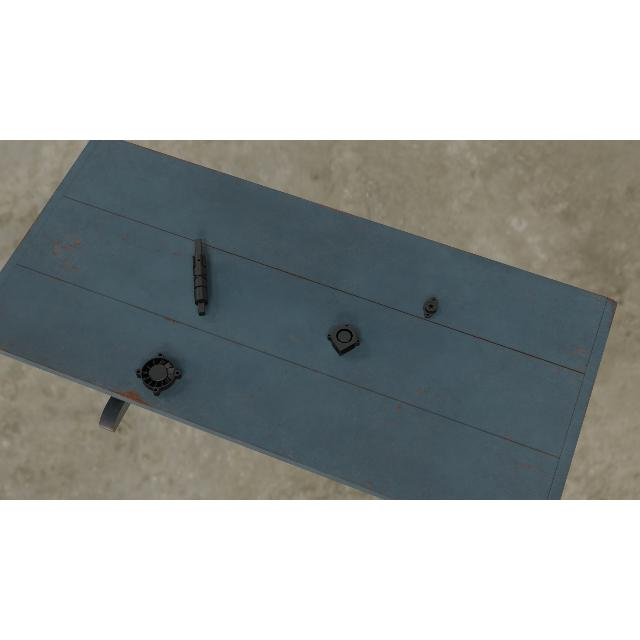Pieza1: (191, 236, 209, 318)
Pieza2: (419, 294, 441, 320)
Pieza3: (326, 321, 362, 357)
Pieza4: (133, 350, 183, 398)
